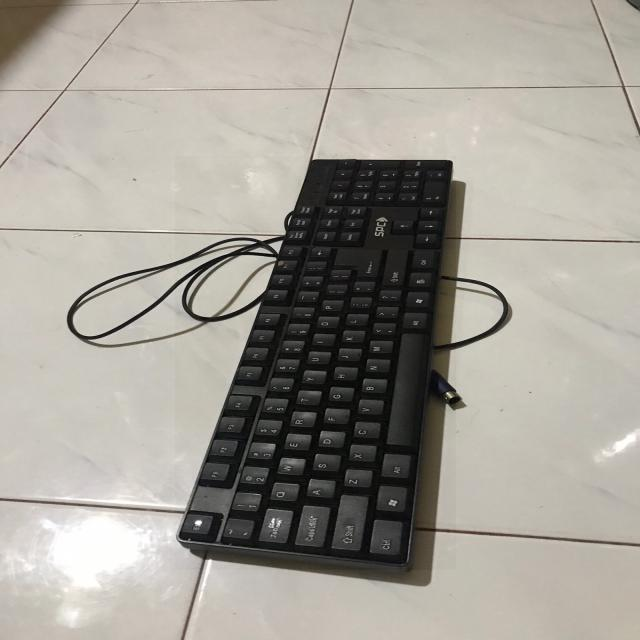-mouse-: (175, 156, 456, 570)
